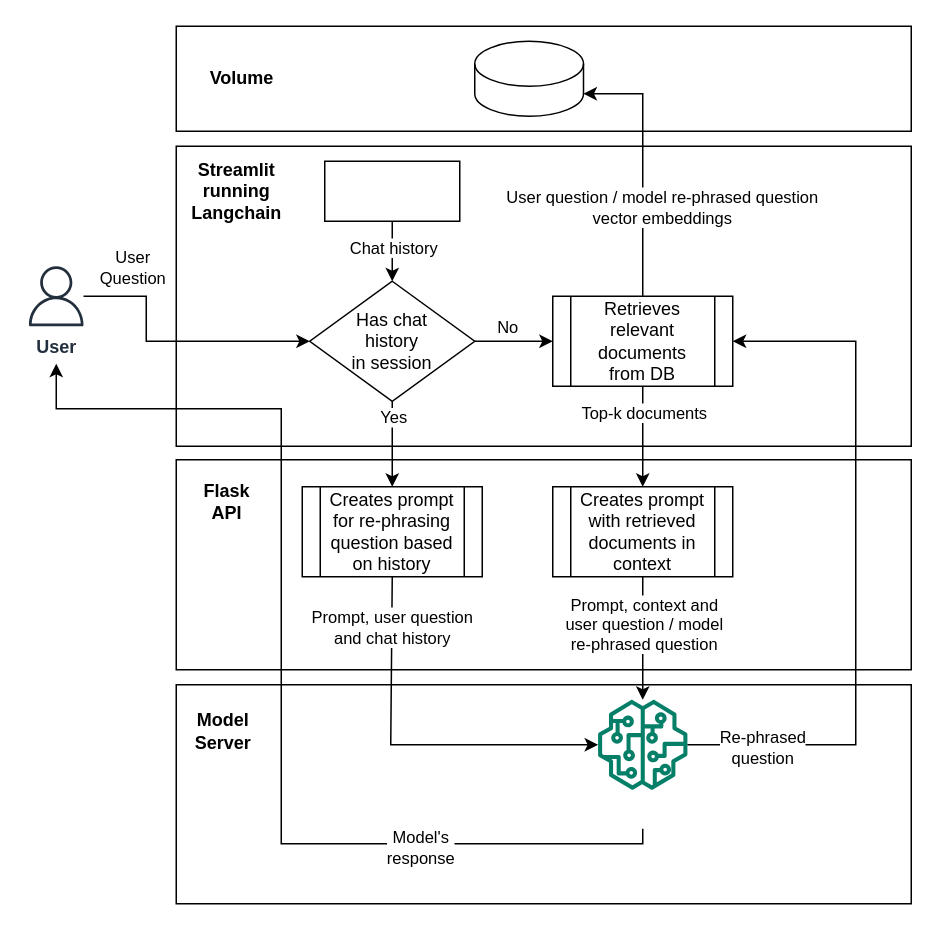
Some shapes in this 938 by 930 pixel diagram are drawn without their labels. The centre of each missing label's shape, as x and y in pixels:
Chat session memory: point 391,190
ChromaDB: point 528,78
Llama 2 Model: point 642,744
